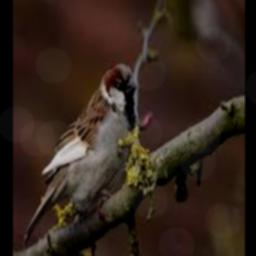Sparrow: (23, 62, 136, 249)
